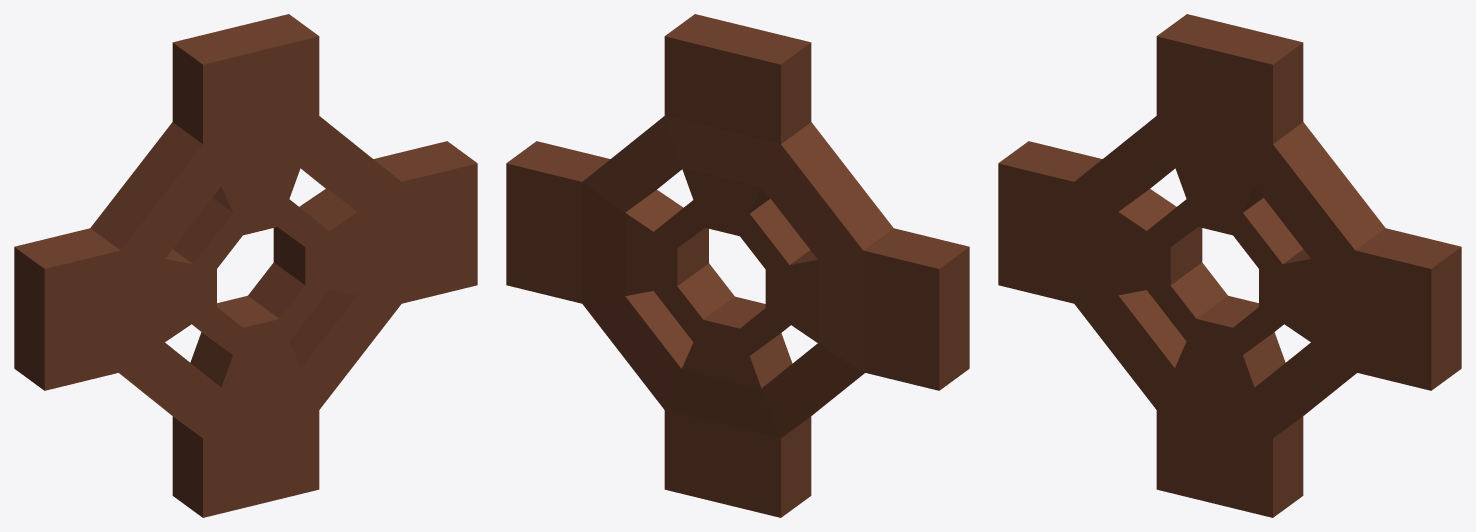
The model's file is HandleTemp.fbx.
The picture shows the model from 3 angles, left to right: view 1: azimuth 30°, elevation 25°; view 2: azimuth 150°, elevation 25°; view 3: azimuth 330°, elevation 25°; orthographic projection.
Visible parts, largest first — view 1: Circle; view 2: Circle; view 3: Circle.
Part boxes in pixels (x1,y1,x2,y2): Circle: (14, 14, 477, 517); Circle: (506, 14, 969, 517); Circle: (998, 14, 1461, 517).
Size of the model in its own units: 285 by 285 by 36.04.
